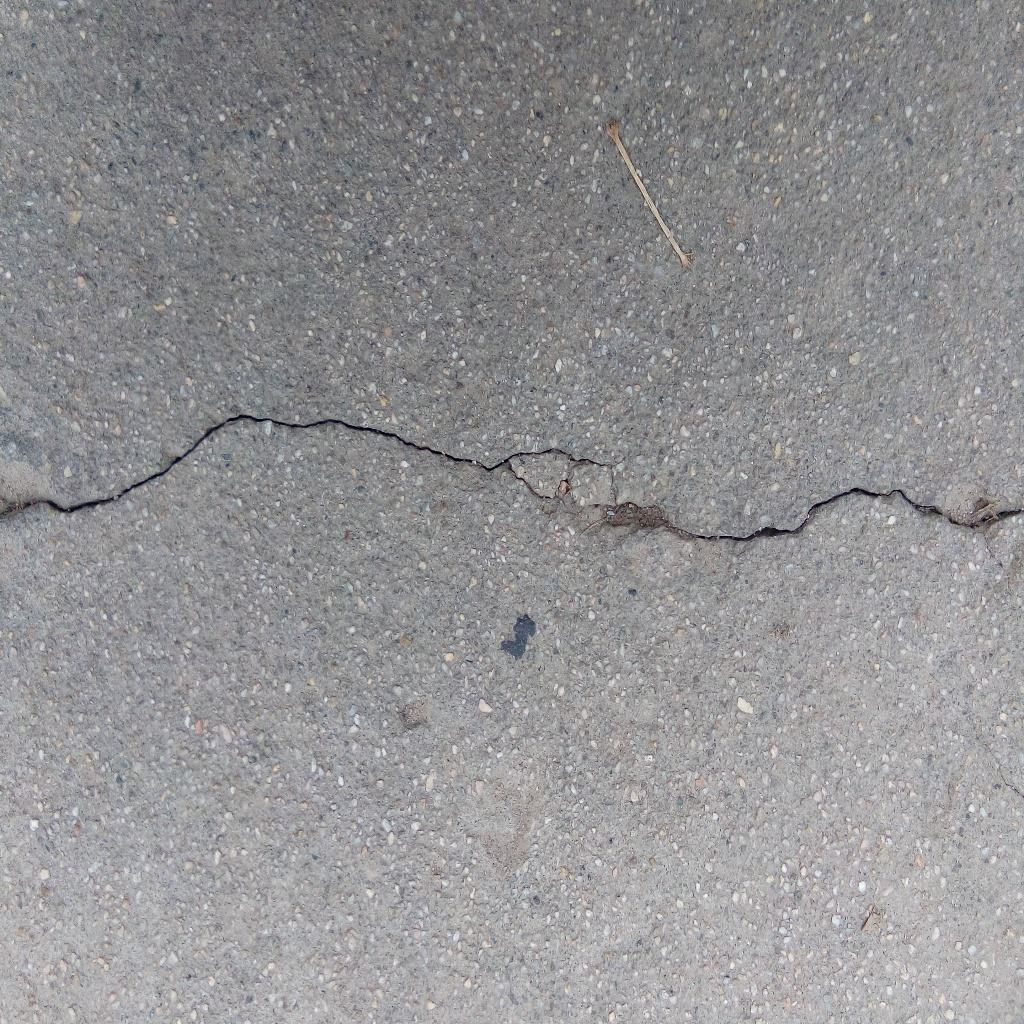Crack: (1, 410, 1024, 544)
